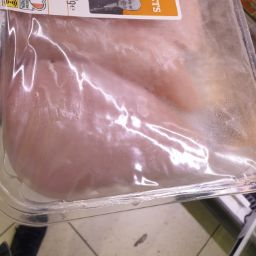Chicken breast: (6, 35, 206, 195), (88, 24, 239, 126)
